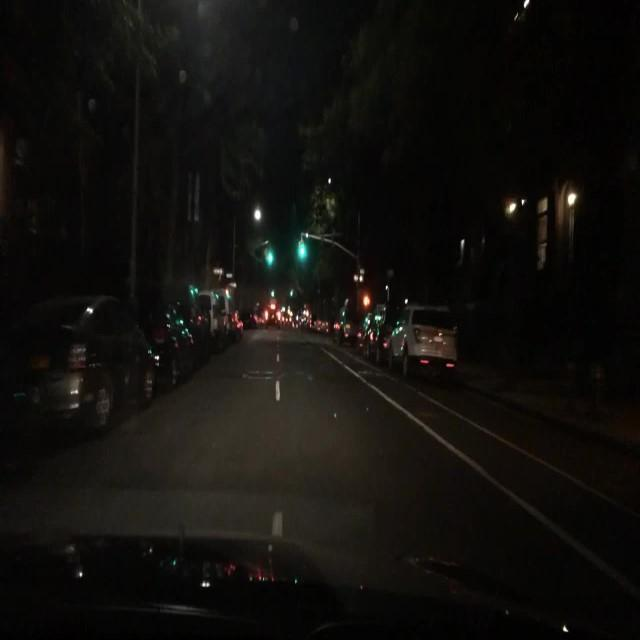normal: (1, 293, 152, 439), (391, 305, 459, 383), (145, 314, 196, 387)
